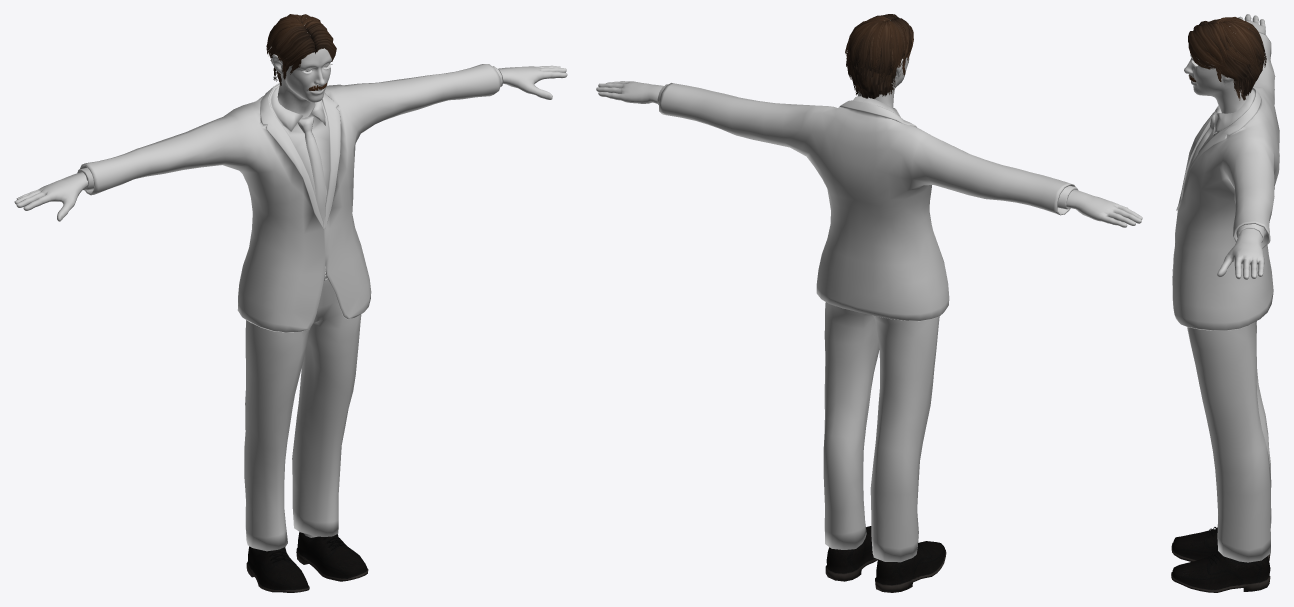
File: poeFinal.obj
The picture shows the model from 3 angles, left to right: view 1: azimuth 30°, elevation 25°; view 2: azimuth 150°, elevation 25°; view 3: azimuth 270°, elevation 25°; orthographic projection.
Visible parts, largest first — view 1: Tops, Bottoms, Body, Shoes, Hair; view 2: Tops, Bottoms, Hair, Shoes, Body; view 3: Tops, Bottoms, Hair, Shoes, Body.
Part boxes in pixels (box(x1,y1,x2,y2)): Tops: box(77, 64, 503, 332); Bottoms: box(244, 266, 361, 551); Body: box(14, 18, 567, 537); Shoes: box(246, 532, 368, 592); Hair: box(266, 14, 336, 85); Tops: box(657, 83, 1078, 321); Bottoms: box(823, 302, 939, 562); Hair: box(845, 14, 913, 98); Shoes: box(825, 526, 946, 592); Body: box(596, 20, 1142, 227); Tops: box(1172, 32, 1279, 330); Bottoms: box(1187, 321, 1271, 562); Hair: box(1188, 17, 1266, 100); Shoes: box(1171, 527, 1270, 592); Body: box(1184, 14, 1265, 279).
Size of the model in its own units: 93.42 by 90.33 by 16.14.
